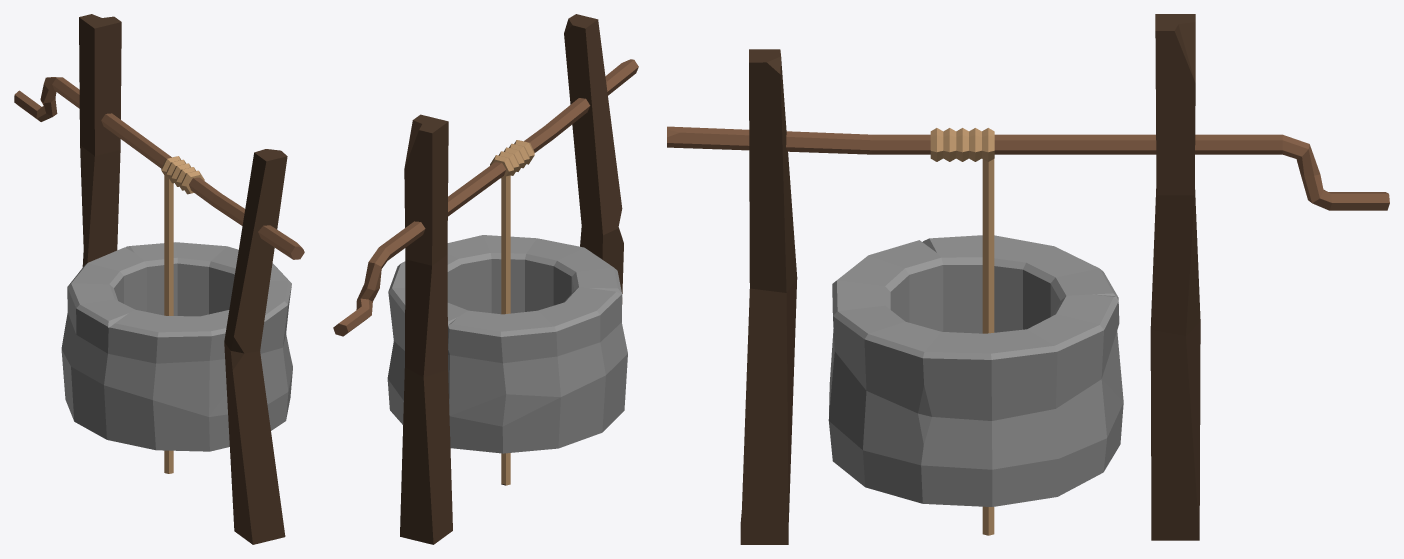
File: Well.fbx
The picture shows the model from 3 angles, left to right: view 1: azimuth 30°, elevation 25°; view 2: azimuth 150°, elevation 25°; view 3: azimuth 270°, elevation 25°; orthographic projection. The views are drawn at different scales.
Parts seen in each view (by area): view 1: Well; view 2: Well; view 3: Well.
Part boxes in pixels (x1,y1,x2,y2): Well: (14,14,304,544); Well: (333,14,638,544); Well: (667,14,1389,544).
Size of the model in its own units: 38.97 by 73.85 by 94.36.
